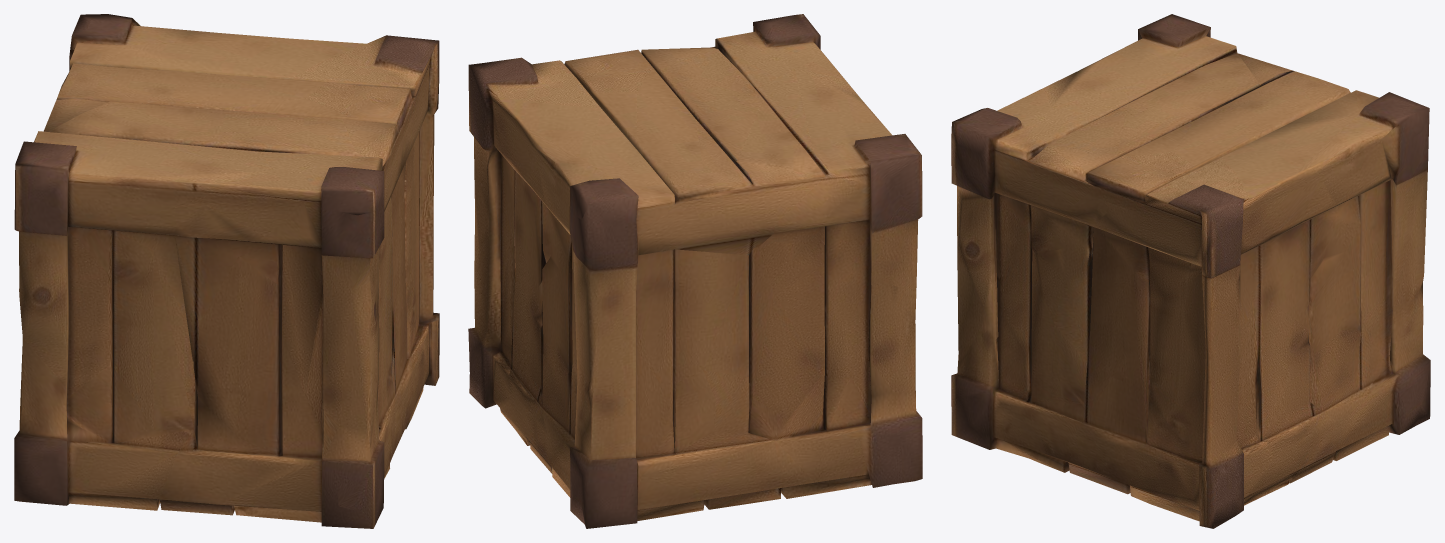
Rendered from caja.glb.
3 renders of one model, left to right at view 1: azimuth 30°, elevation 25°; view 2: azimuth 150°, elevation 25°; view 3: azimuth 270°, elevation 25°, orthographic. The views are drawn at different scales.
Visible parts, largest first — view 1: tripo_node_d89ad159-dee9-40ce-9dbc-8177916055ab; view 2: tripo_node_d89ad159-dee9-40ce-9dbc-8177916055ab; view 3: tripo_node_d89ad159-dee9-40ce-9dbc-8177916055ab.
Boxes of the visible parts, <box> form: tripo_node_d89ad159-dee9-40ce-9dbc-8177916055ab: <box>14,14,439,528</box>; tripo_node_d89ad159-dee9-40ce-9dbc-8177916055ab: <box>468,14,922,528</box>; tripo_node_d89ad159-dee9-40ce-9dbc-8177916055ab: <box>951,14,1430,528</box>.
Bounding box in the file's own units: 1.36 × 1 × 1.36.
1 material, 1 textured.
